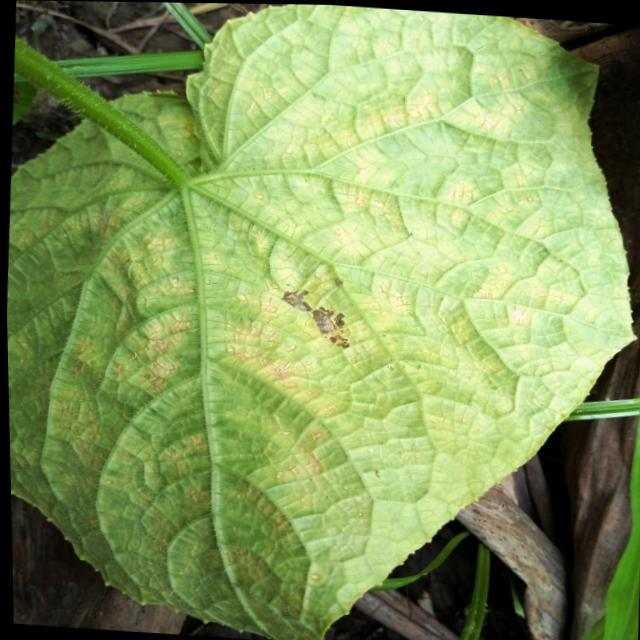Downy-Mildew: (5, 3, 633, 640)
